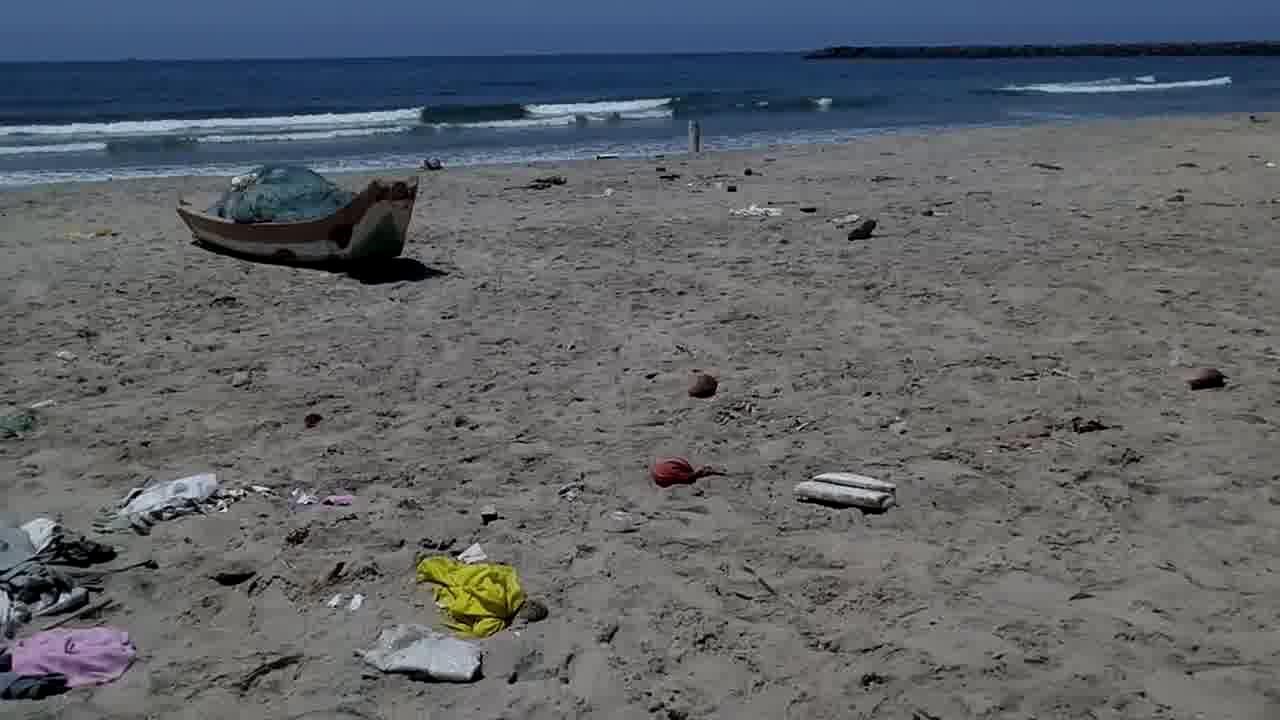obj: (418, 553, 523, 642), (7, 625, 135, 693), (368, 626, 482, 682), (1, 573, 111, 630), (113, 476, 213, 536), (793, 472, 896, 512), (652, 456, 701, 490), (1182, 368, 1228, 393), (682, 374, 718, 397), (730, 202, 784, 217), (684, 118, 700, 155)
sand/background: (1, 0, 1279, 181), (170, 167, 422, 276)
